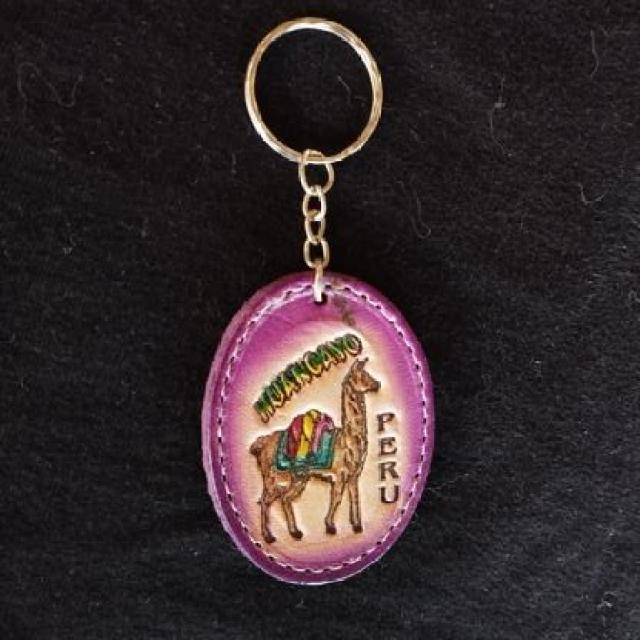Llavero: (200, 269, 435, 586)
